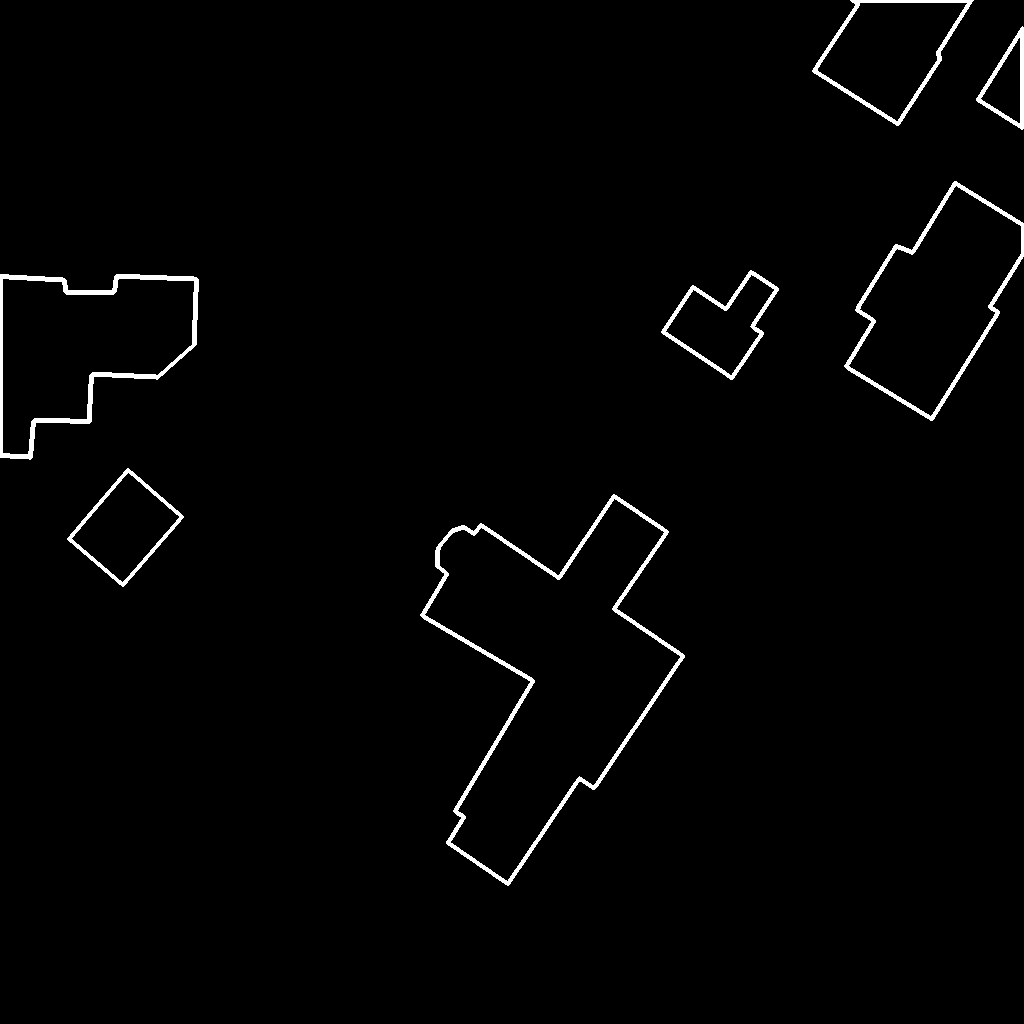building: (422, 496, 684, 885), (846, 183, 1024, 420), (0, 276, 198, 458), (814, 0, 973, 125), (69, 470, 183, 586), (663, 272, 778, 379), (978, 28, 1024, 129)
